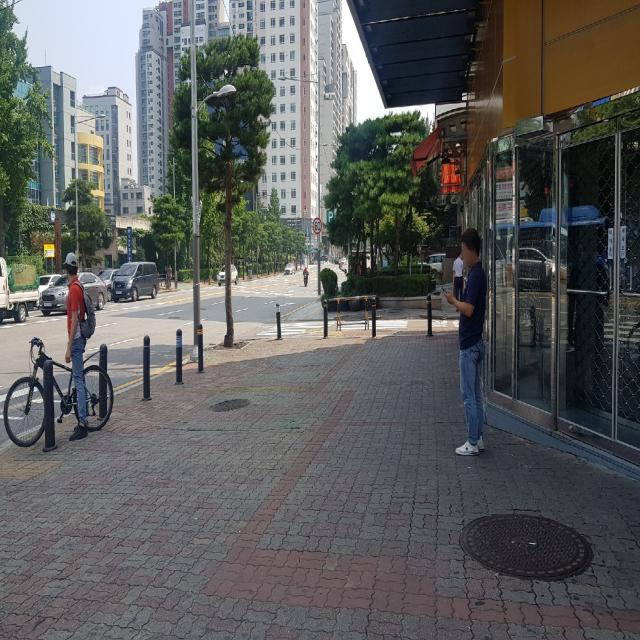횡단보도: (254, 318, 410, 337)
